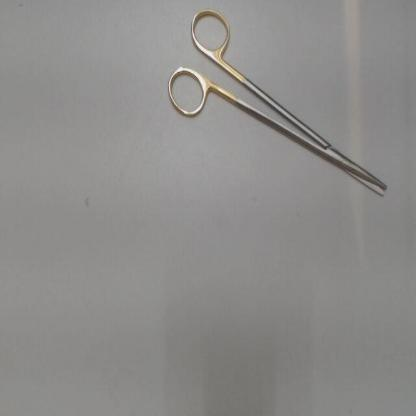7 Metzenbaum Scissors: (166, 5, 392, 203)
